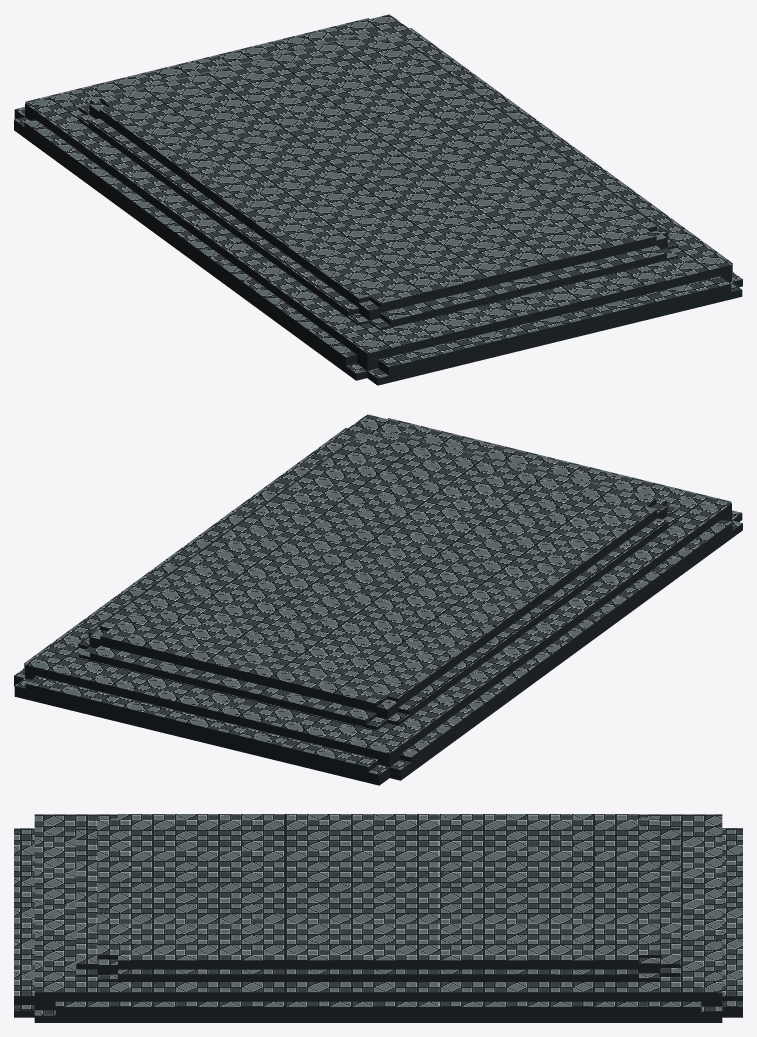
Rendered from altar_floor.fbx.
The picture shows the model from 3 angles, top to bottom: view 1: azimuth 30°, elevation 25°; view 2: azimuth 150°, elevation 25°; view 3: azimuth 270°, elevation 25°; orthographic projection.
Visible parts, largest first — view 1: stand; view 2: stand; view 3: stand.
Part boxes in pixels (x1,y1,x2,y2): stand: (14,14,742,385); stand: (14,414,742,785); stand: (14,814,742,1022).
Size of the model in its own units: 769 by 77.57 by 1251.
1 material, 1 textured.
